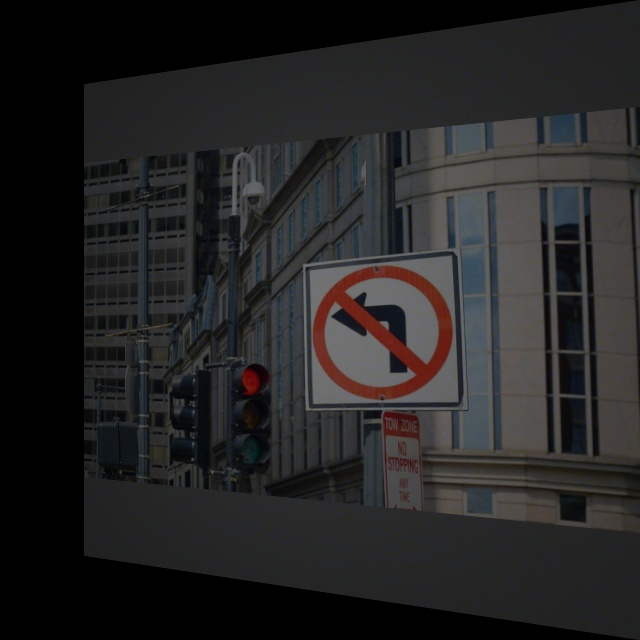Left_Turn_Prohibited: (304, 258, 467, 410)
